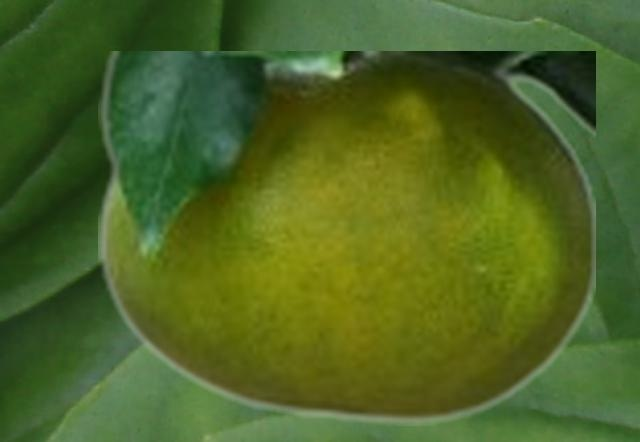dalandan: (98, 51, 594, 424)
